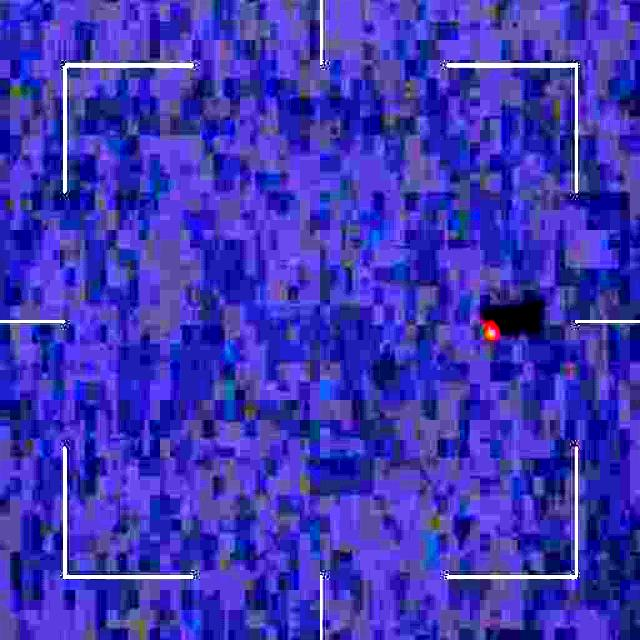bird: (481, 315, 505, 355)
